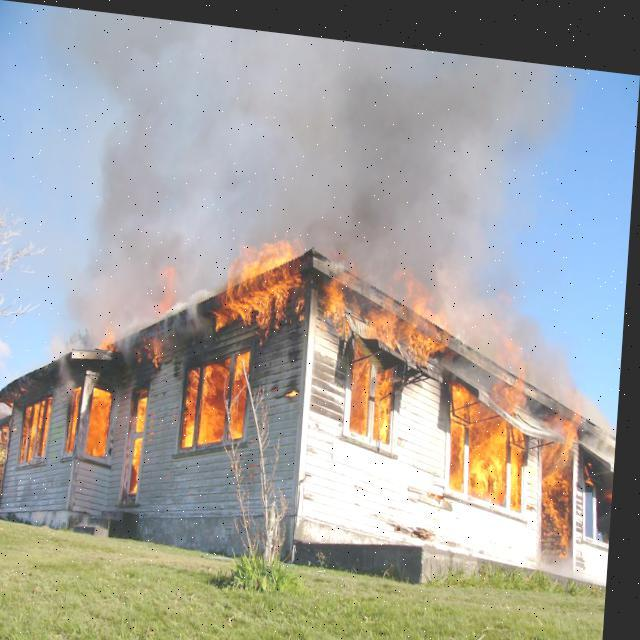Fire: (302, 227, 608, 548), (25, 202, 313, 518)
